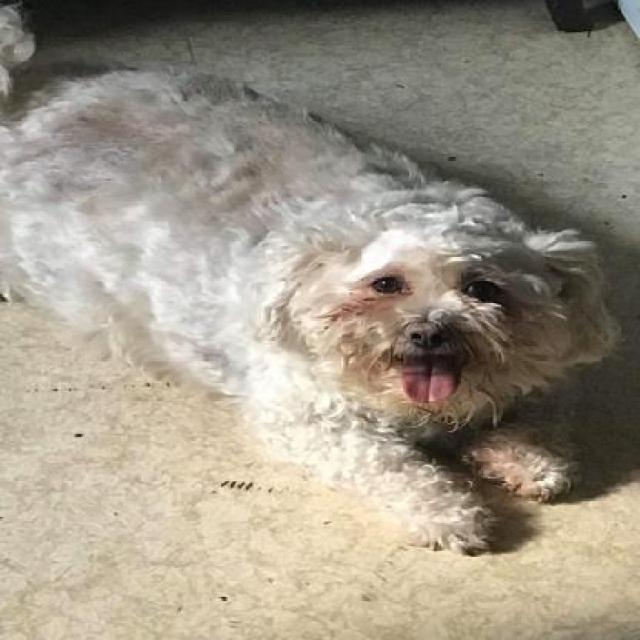Dog: (0, 0, 626, 560)
